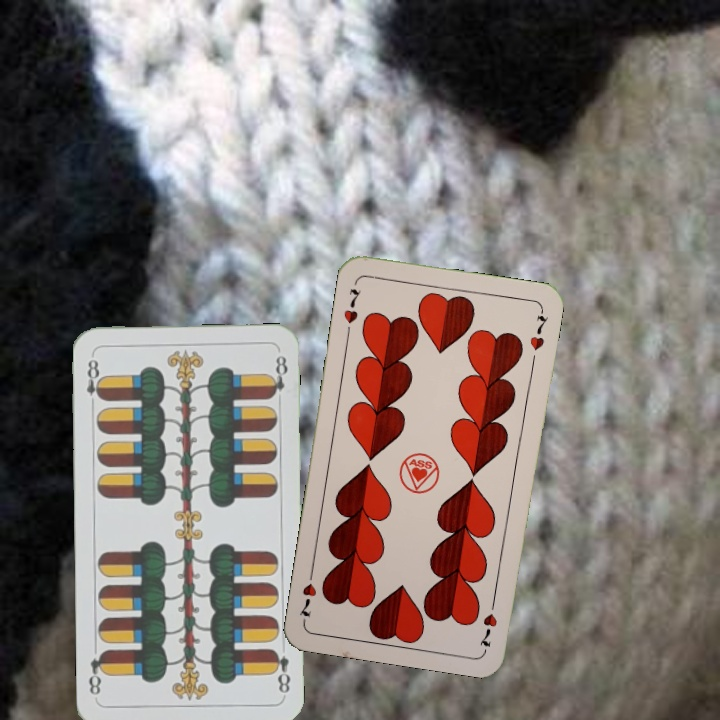E8: (268, 645, 293, 696), (83, 355, 106, 410)
H7: (476, 593, 500, 652), (339, 284, 363, 338)
